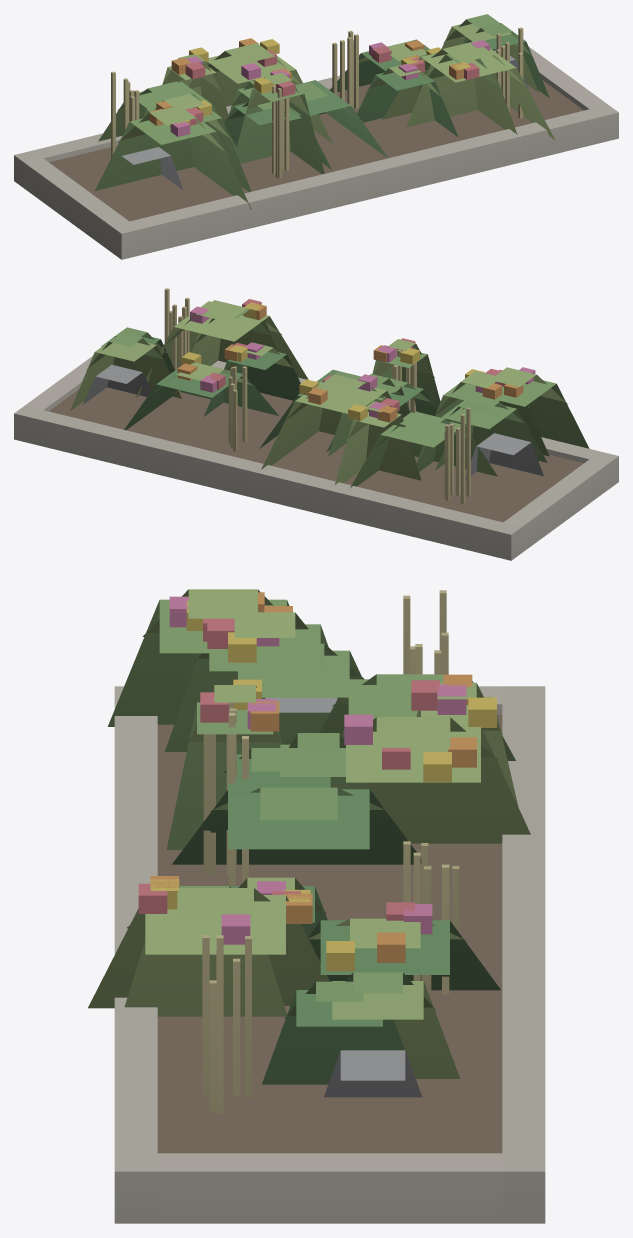
File: gate_garden_bed.glb
The picture shows the model from 3 angles, top to bottom: view 1: azimuth 30°, elevation 25°; view 2: azimuth 150°, elevation 25°; view 3: azimuth 270°, elevation 25°; orthographic projection. The views are drawn at different scales.
Visible parts, largest first — view 1: gate_garden_bed; view 2: gate_garden_bed; view 3: gate_garden_bed.
Part boxes in pixels (left/top/right/bottom): gate_garden_bed: left=14, top=14, right=618, bottom=259; gate_garden_bed: left=14, top=288, right=618, bottom=560; gate_garden_bed: left=88, top=589, right=545, bottom=1223.
Bounding box in the file's own units: 8 × 1.74 × 3.19.
